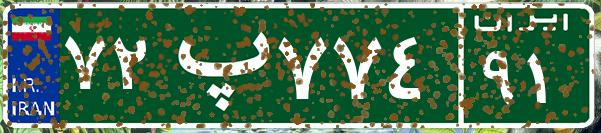1: (525, 38, 570, 115)
2: (110, 28, 158, 105)
4: (385, 28, 445, 110)
7: (273, 28, 330, 110), (330, 28, 385, 110), (57, 26, 110, 107)
9: (475, 38, 525, 113)
پ: (158, 15, 273, 115)
